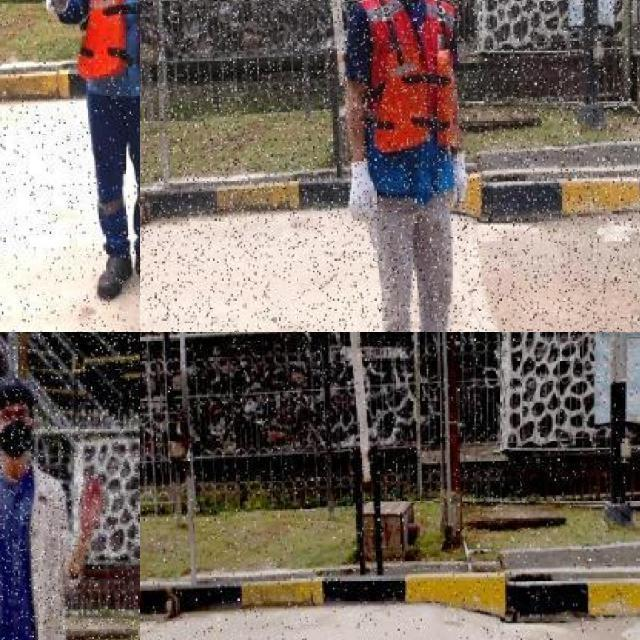apron: (346, 160, 380, 228), (450, 154, 468, 210), (39, 0, 73, 19)
